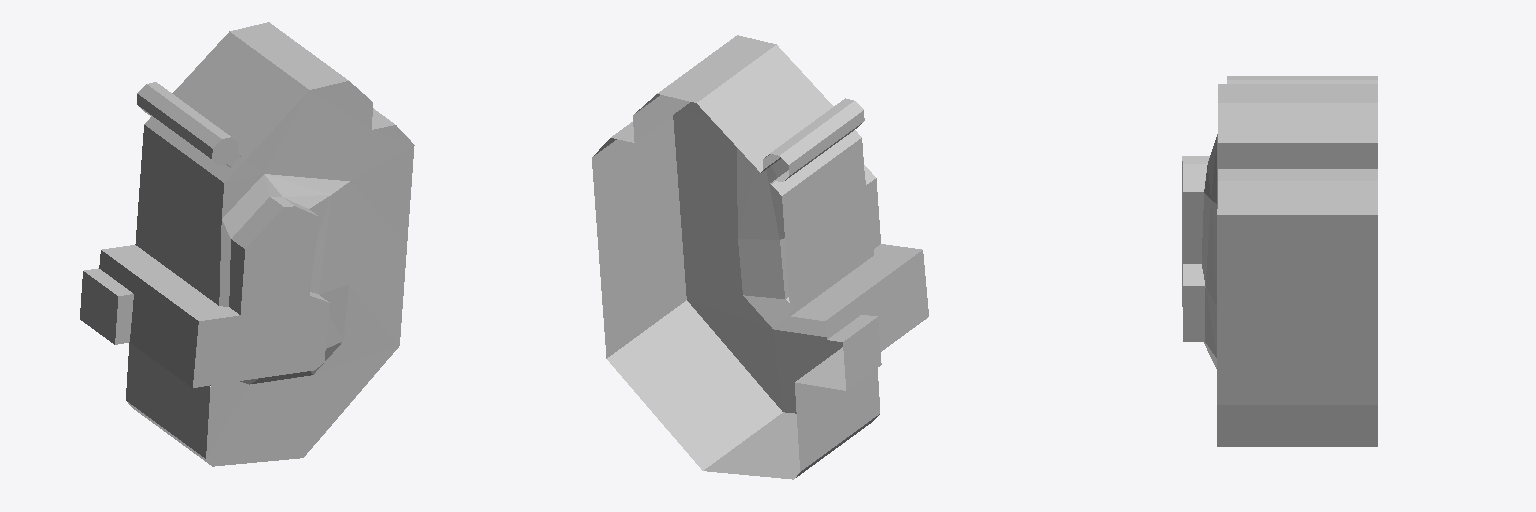
File: talo_Build0000074.obj
3 renders of one model, left to right at view 1: azimuth 30°, elevation 25°; view 2: azimuth 150°, elevation 25°; view 3: azimuth 270°, elevation 25°, orthographic.
Bounding box in the file's own units: 24.95 × 34.31 × 16.63.